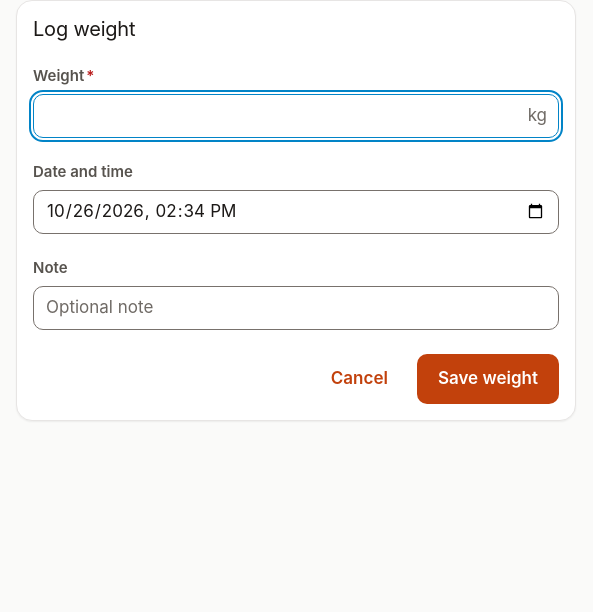
asks for confirmation again after the value is corrected above the bound (WT-4)
This screenshot has width=593, height=612.
Type "12" into the field labelled "Weight*" at (296, 116), box [33, 94, 559, 138]
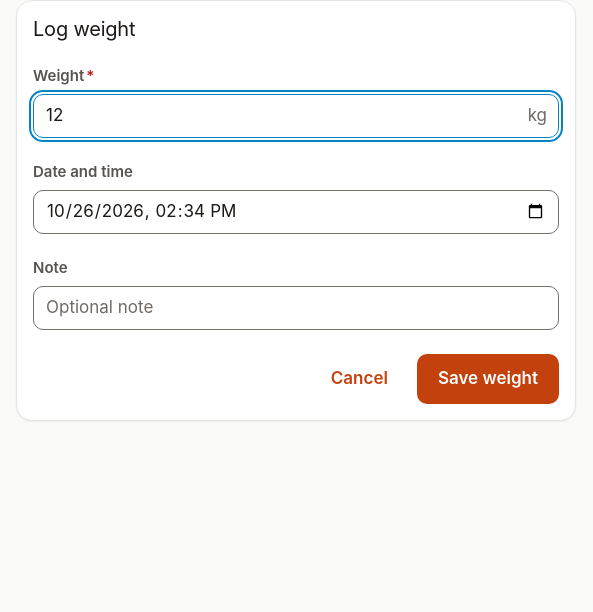
Click the button "Save weight" at (488, 379), box [417, 354, 559, 404]
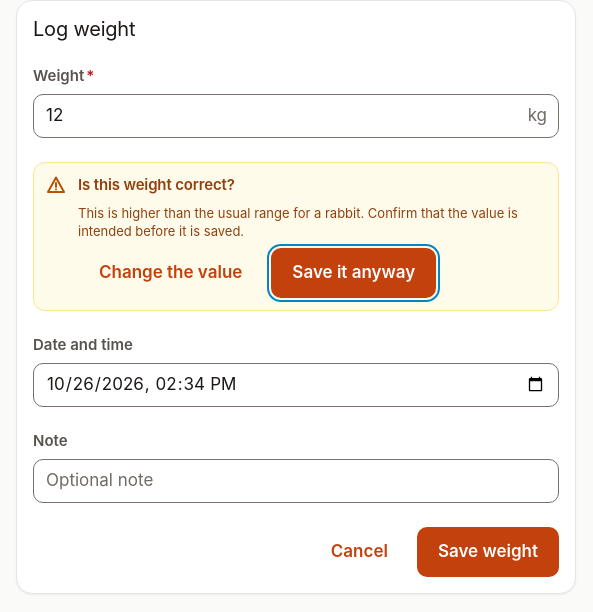
Now the heading "Is this weight correct?" is shown, box [78, 175, 235, 194]
Replace the text in the field labelled "Weight*" with "15" at (296, 116), box [33, 94, 559, 138]
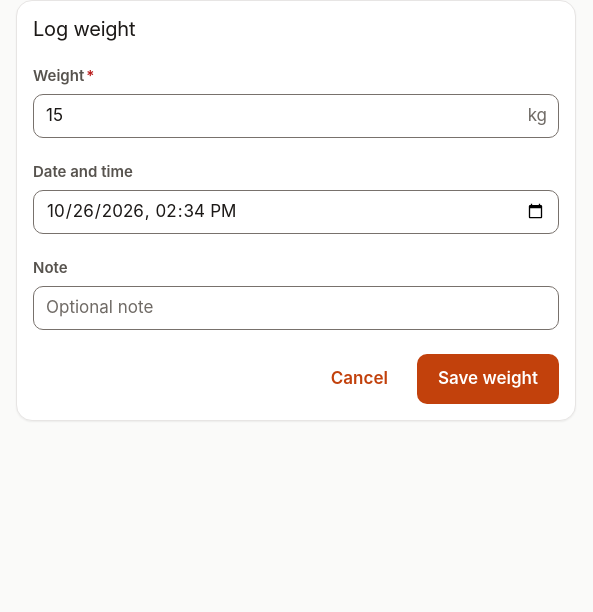
Now the heading "Is this weight correct?" is gone
Click the button "Save weight" at (488, 379), box [417, 354, 559, 404]
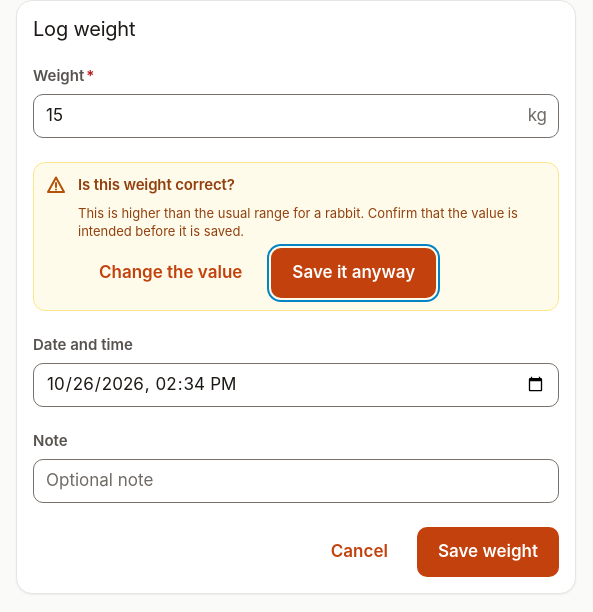
Now the heading "Is this weight correct?" is shown, box [78, 175, 235, 194]
